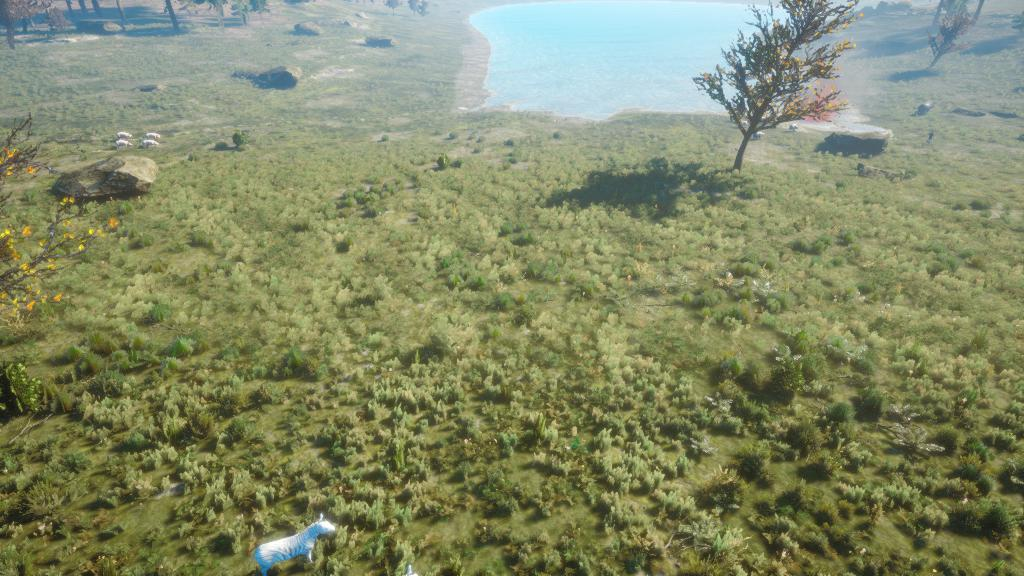Fire: (803, 91, 838, 121)
elephant: (915, 101, 935, 115)
human: (926, 131, 935, 145)
pig: (114, 139, 134, 150), (140, 139, 160, 149), (145, 132, 162, 141), (116, 131, 132, 139), (787, 122, 799, 132), (752, 131, 765, 140)
zebra: (246, 506, 342, 574)
